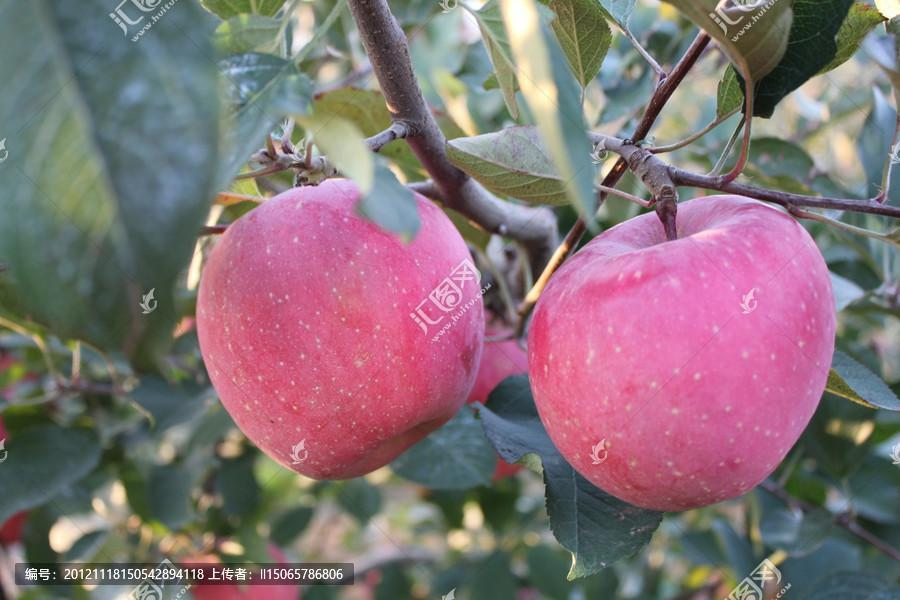apple: (523, 197, 831, 515), (197, 177, 489, 482)
